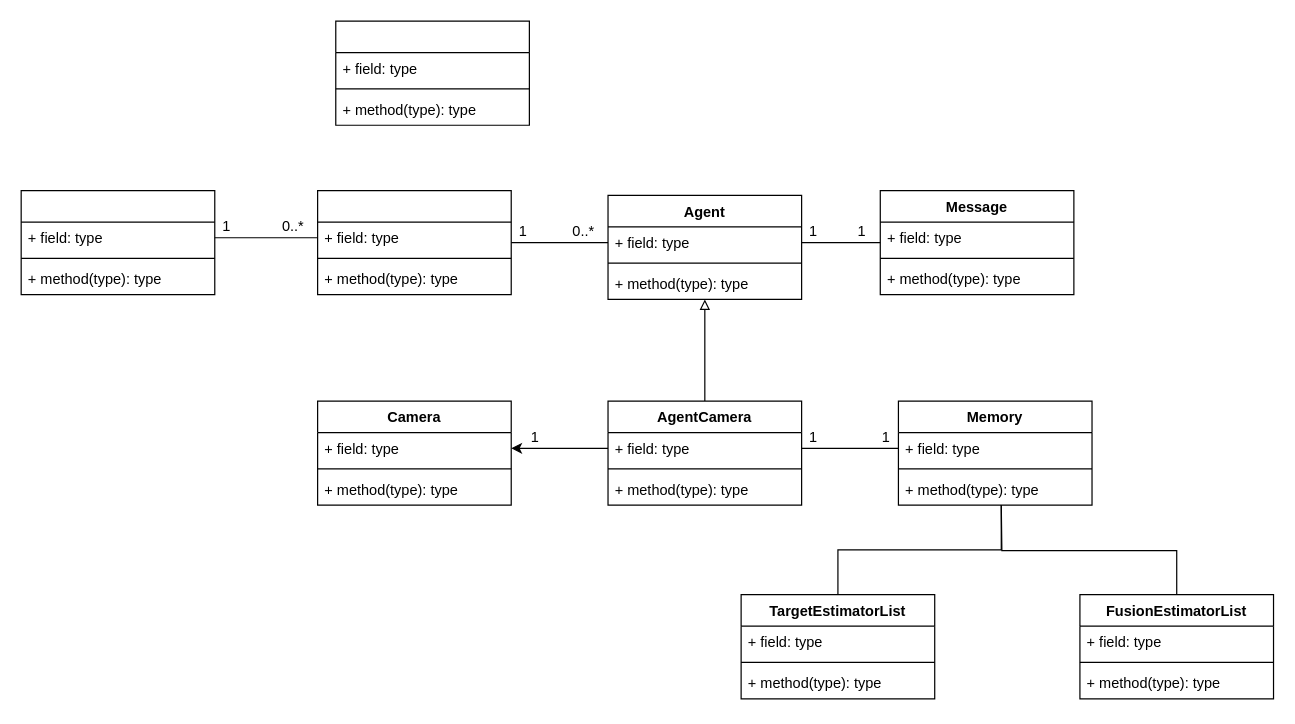
Some shapes in this 1295 by 724 pixel diagram are drawn without their labels. The box of each missing label's shape, as (x1, y1, x2, y2) in pixels:
Prediction: (335, 20, 529, 125)
Room: (316, 189, 511, 295)
Target: (20, 189, 215, 295)
